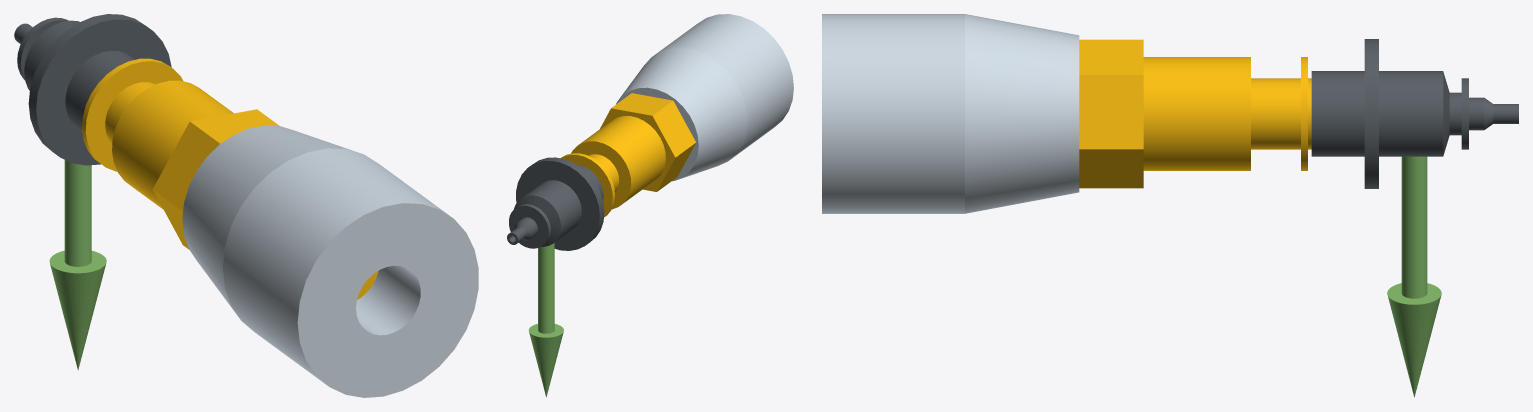
Rendered from nozzle.obj.
The picture shows the model from 3 angles, left to right: view 1: azimuth 30°, elevation 25°; view 2: azimuth 150°, elevation 25°; view 3: azimuth 270°, elevation 25°; orthographic projection. The views are drawn at different scales.
Parts seen in each view (by area): view 1: mesh1, mesh2, mesh3, mesh13, mesh32, mesh0, mesh10, mesh48, mesh50, mesh26, mesh33, mesh31 (+6 smaller); view 2: mesh2, mesh3, mesh13, mesh30, mesh48, mesh29, mesh26, mesh12, mesh50, mesh4, mesh21, mesh42 (+8 smaller); view 3: mesh2, mesh3, mesh13, mesh29, mesh28, mesh33, mesh48, mesh11, mesh23, mesh50, mesh27, mesh31 (+2 smaller).
Part boxes in pixels (x1,y1,x2,y2): mesh1: [297, 203, 478, 397]; mesh2: [222, 148, 452, 385]; mesh3: [182, 125, 358, 316]; mesh13: [112, 80, 233, 209]; mesh32: [36, 19, 171, 165]; mesh0: [356, 265, 420, 335]; mesh10: [85, 61, 183, 171]; mesh48: [64, 160, 91, 266]; mesh50: [50, 264, 105, 370]; mesh26: [153, 121, 219, 211]; mesh33: [65, 50, 134, 131]; mesh31: [28, 14, 150, 156]; mesh2: [652, 14, 793, 159]; mesh3: [618, 48, 747, 179]; mesh13: [579, 116, 665, 202]; mesh30: [516, 161, 599, 250]; mesh48: [538, 243, 554, 333]; mesh29: [521, 180, 581, 242]; mesh26: [653, 101, 695, 157]; mesh12: [571, 141, 631, 209]; mesh50: [529, 332, 563, 397]; mesh4: [616, 87, 698, 181]; mesh21: [600, 108, 675, 191]; mesh42: [509, 205, 548, 248]; mesh2: [822, 14, 964, 213]; mesh3: [965, 14, 1079, 213]; mesh13: [1143, 57, 1250, 170]; mesh29: [1379, 71, 1443, 156]; mesh28: [1079, 75, 1143, 149]; mesh33: [1311, 71, 1364, 156]; mesh48: [1401, 156, 1427, 298]; mesh11: [1251, 78, 1300, 149]; mesh23: [1079, 149, 1143, 188]; mesh50: [1388, 295, 1441, 397]; mesh27: [1079, 39, 1143, 74]; mesh31: [1364, 39, 1378, 188].
Bounding box in the file's own units: 0.014 × 0.0289 × 0.0487.
